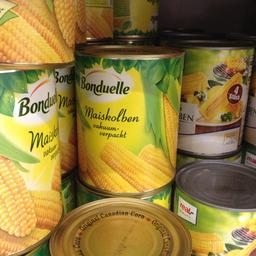corn: (71, 46, 185, 198), (0, 64, 63, 254), (178, 36, 252, 158), (174, 158, 255, 252)
